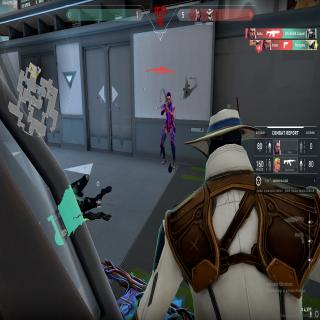ENEMY-HEAD: (166, 90, 171, 104)
